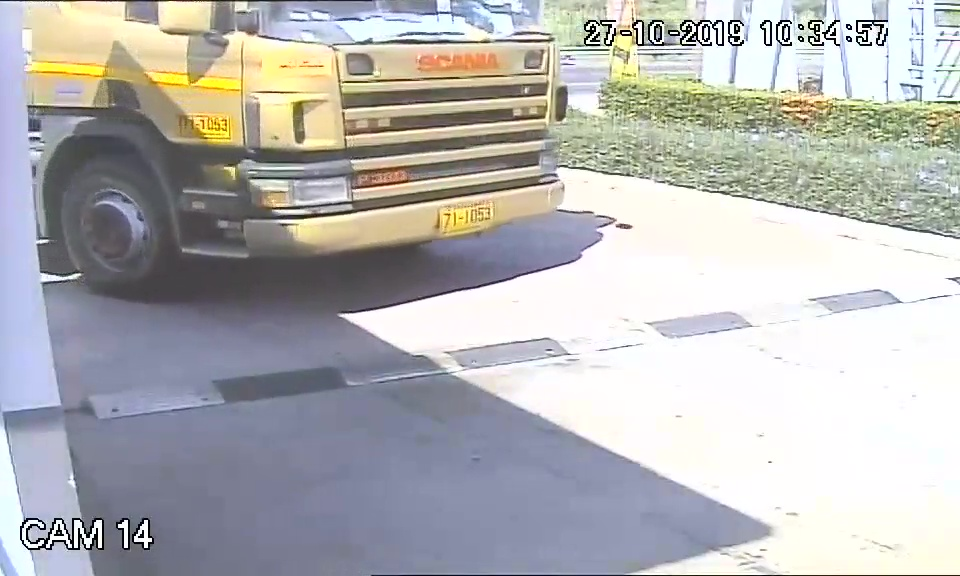truck: (57, 7, 571, 299)
